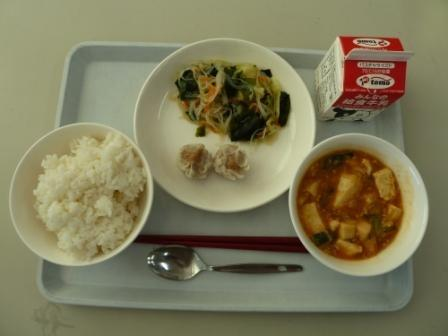Milk: (312, 31, 417, 125)
Rice: (9, 122, 149, 272)
Spicy chili-flavored tofu: (295, 128, 429, 268)
pasta: (169, 58, 297, 140)
